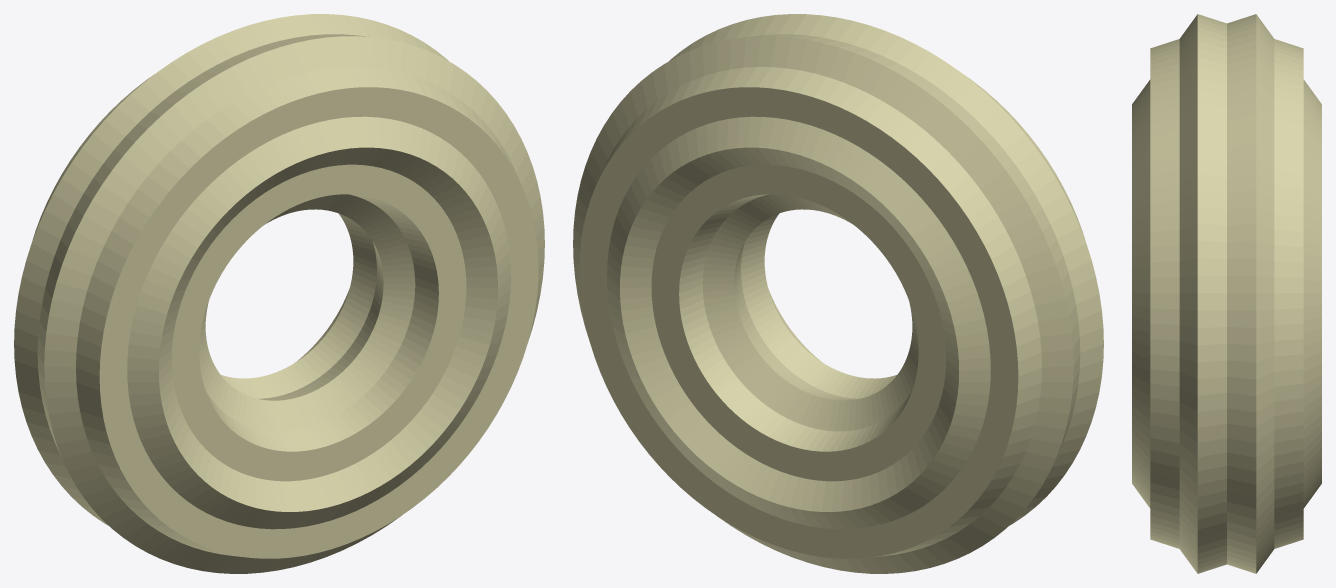
The model's file is revolve.glb.
3 views of the same model, side by side, from view 1: azimuth 30°, elevation 25°; view 2: azimuth 150°, elevation 25°; view 3: azimuth 270°, elevation 25° (orthographic). The views are drawn at different scales.
Visible parts, largest first — view 1: world; view 2: world; view 3: world.
Boxes of the visible parts, x1,y1,x2,y2 form: world: (14, 14, 544, 573); world: (573, 14, 1103, 573); world: (1132, 14, 1321, 573).
Size of the model in its own units: 29.51 by 29.51 by 10.
